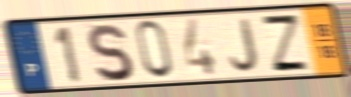0: (134, 18, 176, 82)
1: (53, 25, 83, 85)
4: (184, 16, 218, 78)
J: (228, 16, 261, 74)
S: (85, 21, 135, 84)
Z: (258, 13, 313, 73)
